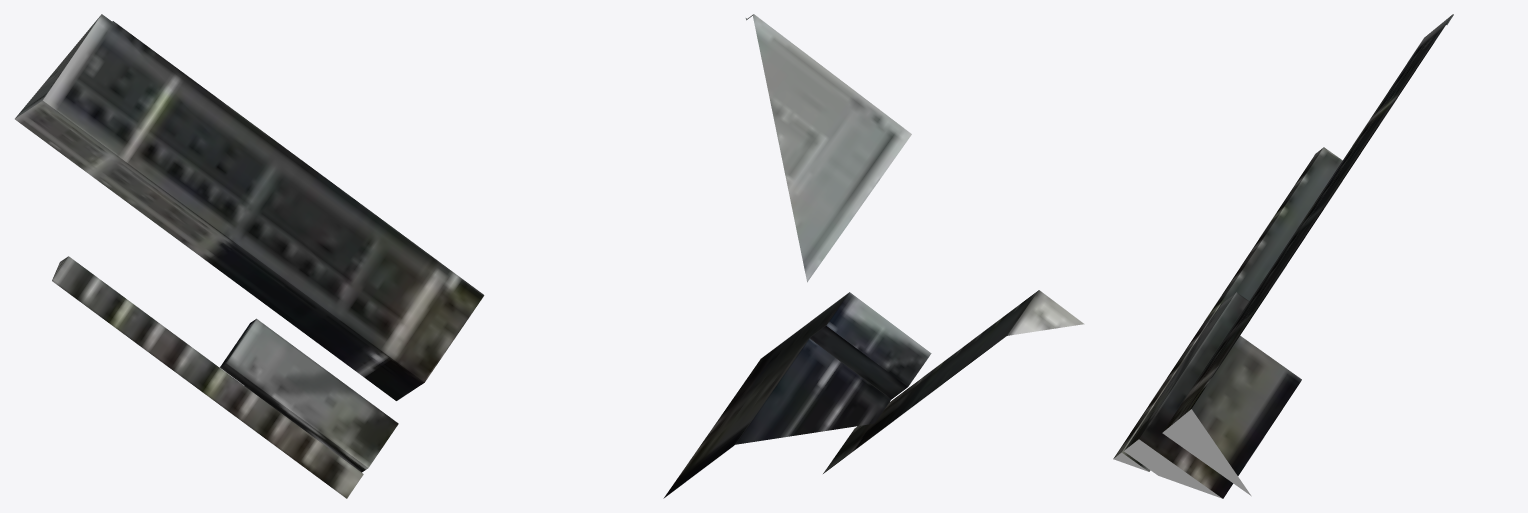
File: 19758_bldg_Building.glb
The picture shows the model from 3 angles, left to right: view 1: azimuth 30°, elevation 25°; view 2: azimuth 150°, elevation 25°; view 3: azimuth 270°, elevation 25°; orthographic projection. The views are drawn at different scales.
Bounding box in the file's own units: 38.97 × 38.52 × 34.67.
2 materials, 1 textured.
